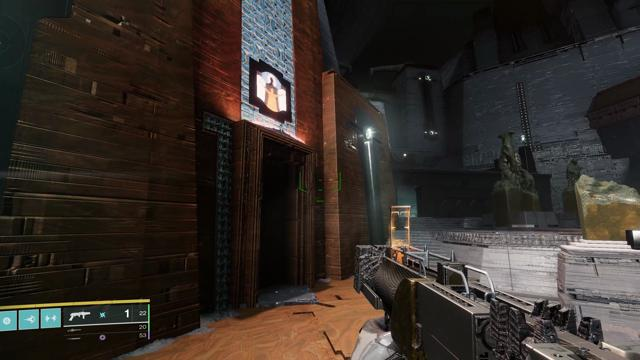worship: (256, 70, 287, 113)
